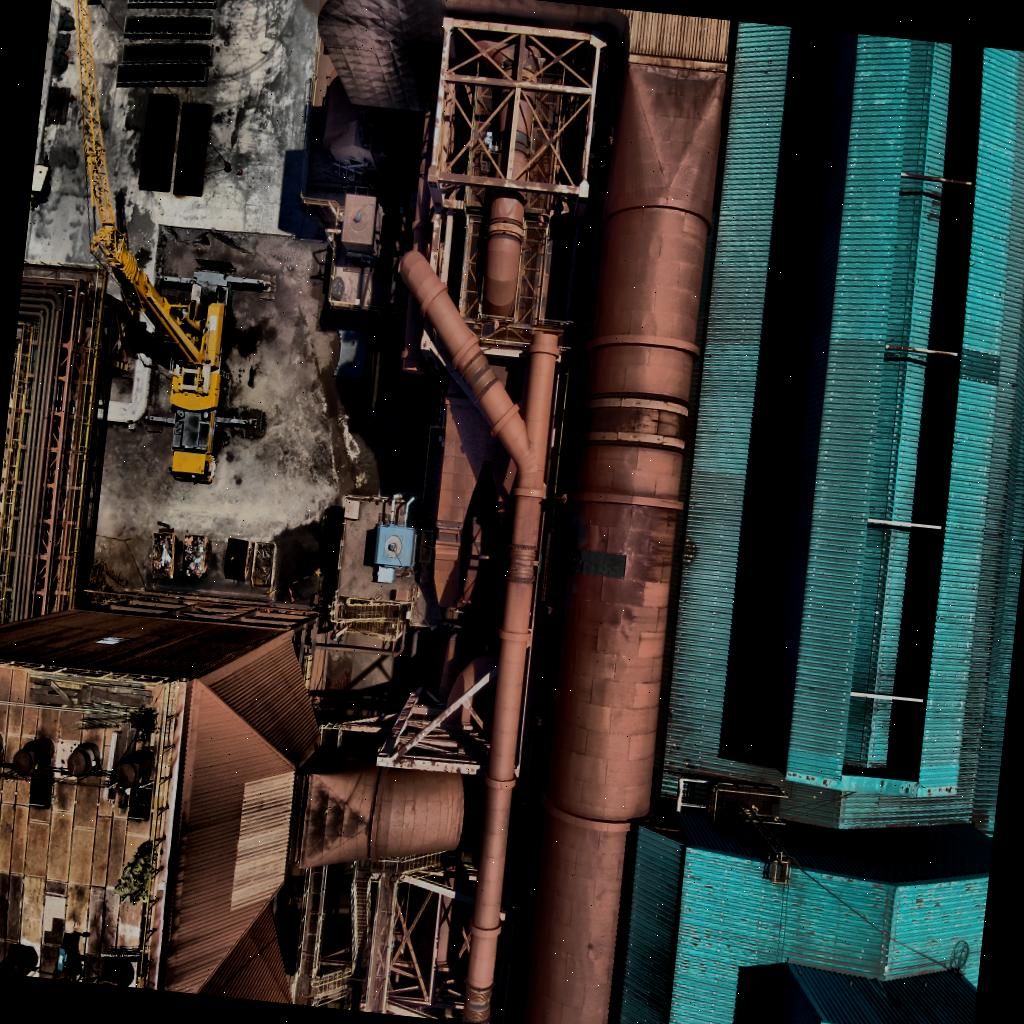Failures: (562, 538, 628, 582), (496, 40, 550, 82)
